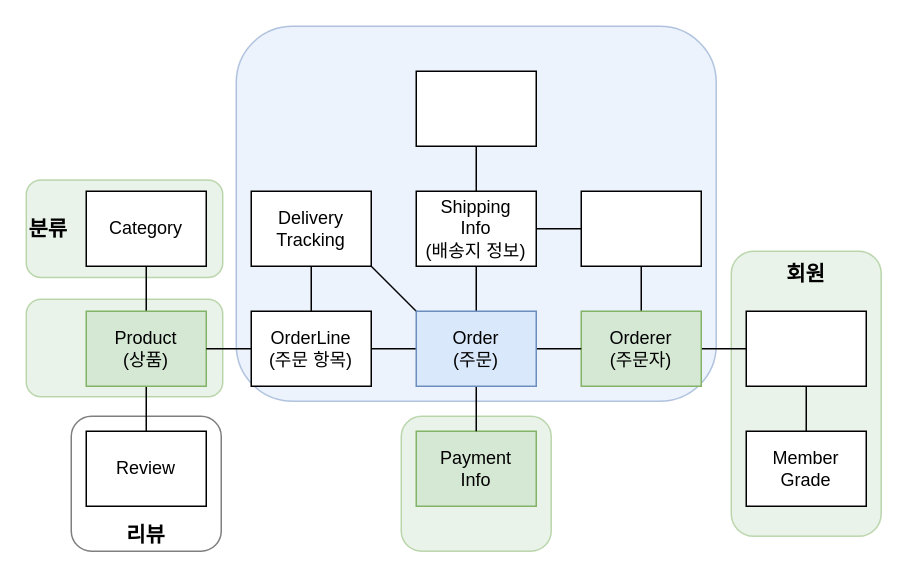
Some shapes in this 908 by 578 pixel diagram are drawn without their labels. Here are the shapes that lost their labels. From the top down, the box of each, then its label:
(415, 70, 536, 146): Address
(235, 25, 716, 401): 주문
(580, 190, 701, 266): Receiver (받는 사람)
(25, 298, 223, 397): 상품
(745, 310, 866, 386): Member
(400, 415, 551, 551): 결제
